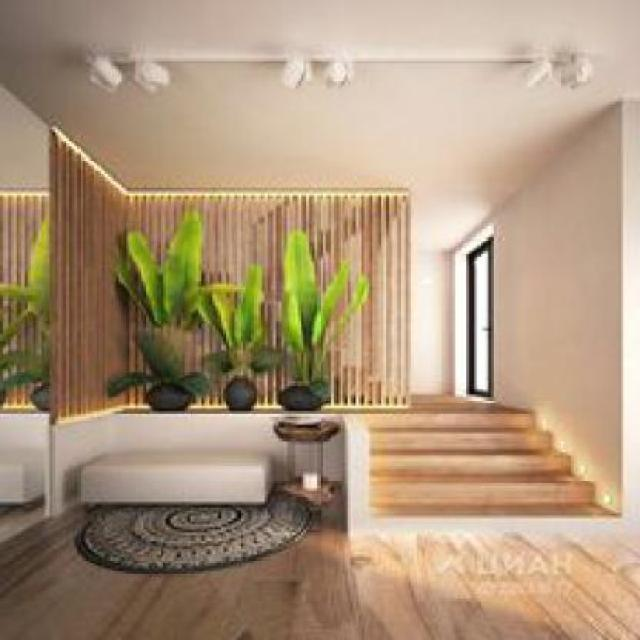stair: (326, 360, 640, 537)
